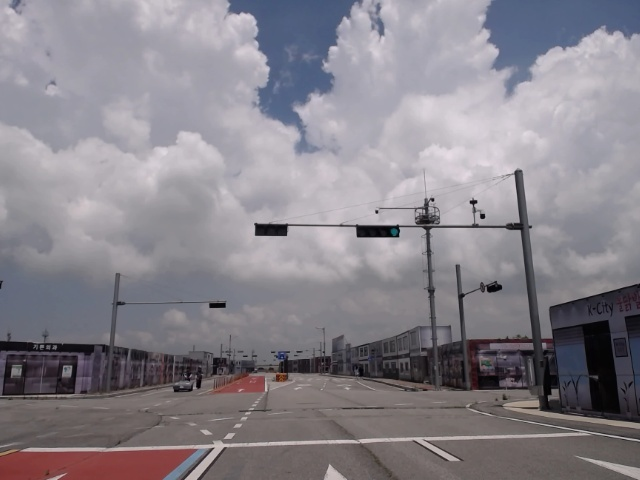straight_green_4: (357, 224, 401, 238)
